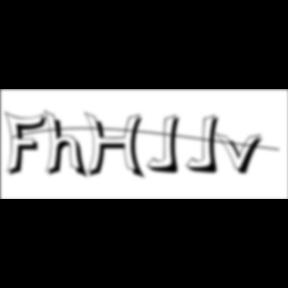F: (5, 110, 53, 178)
H: (84, 112, 150, 182)
J: (186, 114, 226, 176), (148, 114, 187, 176)
h: (44, 108, 92, 182)
v: (215, 131, 269, 177)
